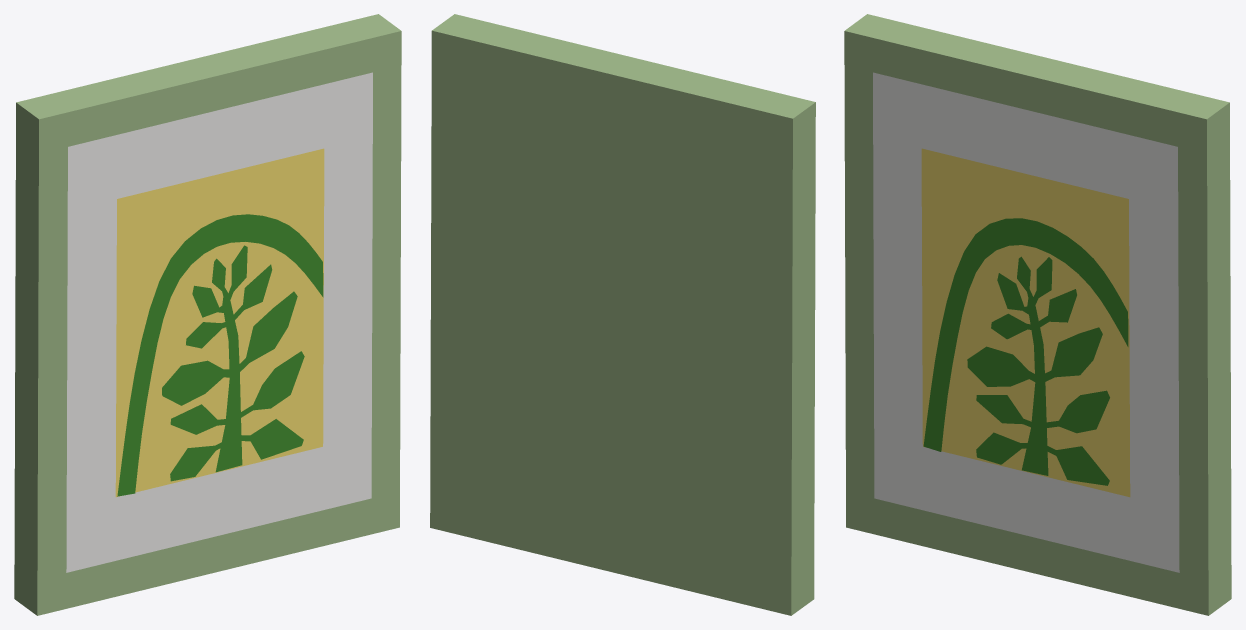
The model's file is Picture_4.fbx.
3 renders of one model, left to right at view 1: azimuth 30°, elevation 25°; view 2: azimuth 150°, elevation 25°; view 3: azimuth 330°, elevation 25°, orthographic.
Visible parts, largest first — view 1: Picture_4; view 2: Picture_4; view 3: Picture_4.
Part boxes in pixels (<box>): Picture_4: <box>14,14,401,615</box>; Picture_4: <box>430,14,815,615</box>; Picture_4: <box>844,14,1231,615</box>.
Bounding box in the file's own units: 79.65 × 9.54 × 105.
